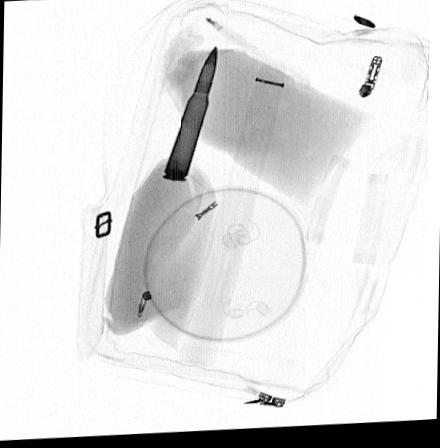Bullet: (161, 44, 217, 183)
